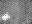person: (2, 14, 9, 21)
